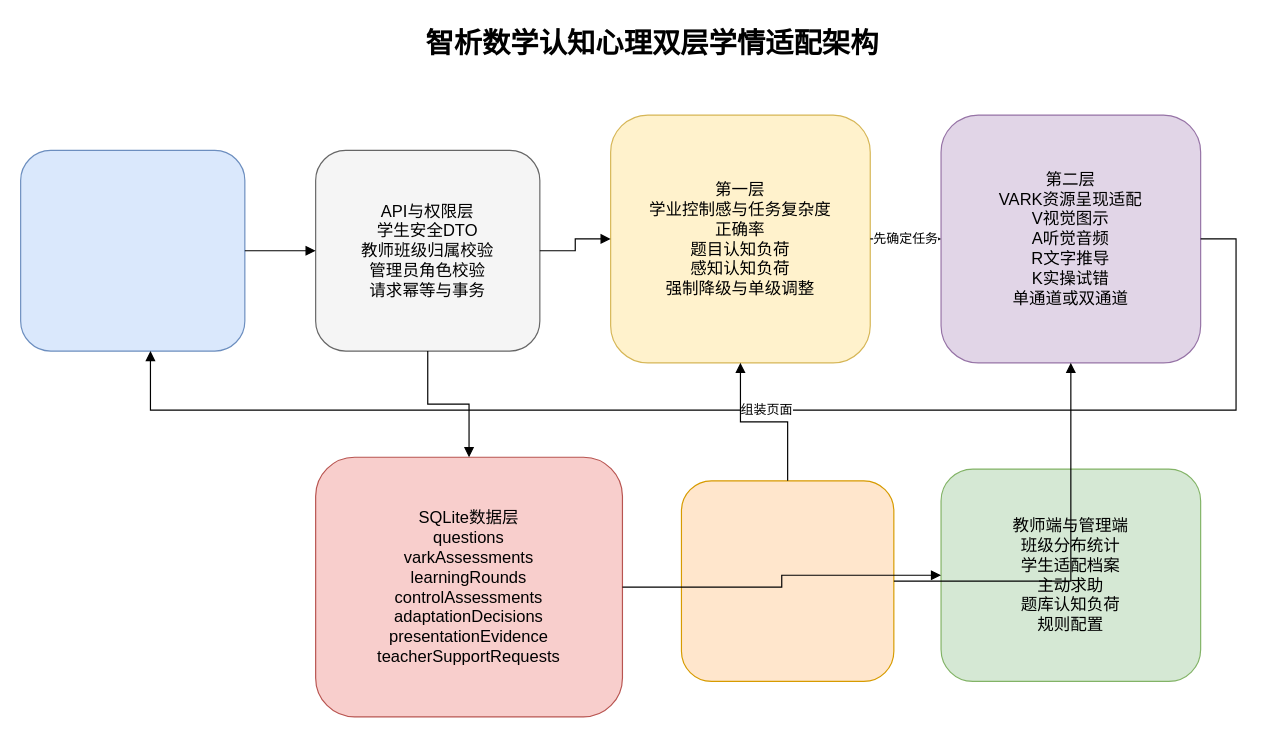
The diagram is 1266 pixels wide and 737 high, and some of its shapes have lost their labels. The shapes that lost their labels are listed below. From the top down, each one's centre as x and y in pixels, then its label:
At [132,250]: "学生端 薄弱练习入口 5题任务包 VARK问卷与结果 轮后自评与便利贴".
At [787,580]: "统一配置 白名单知识点 VARK每次练习必测 量表阈值 规则版本 便利贴文案".
